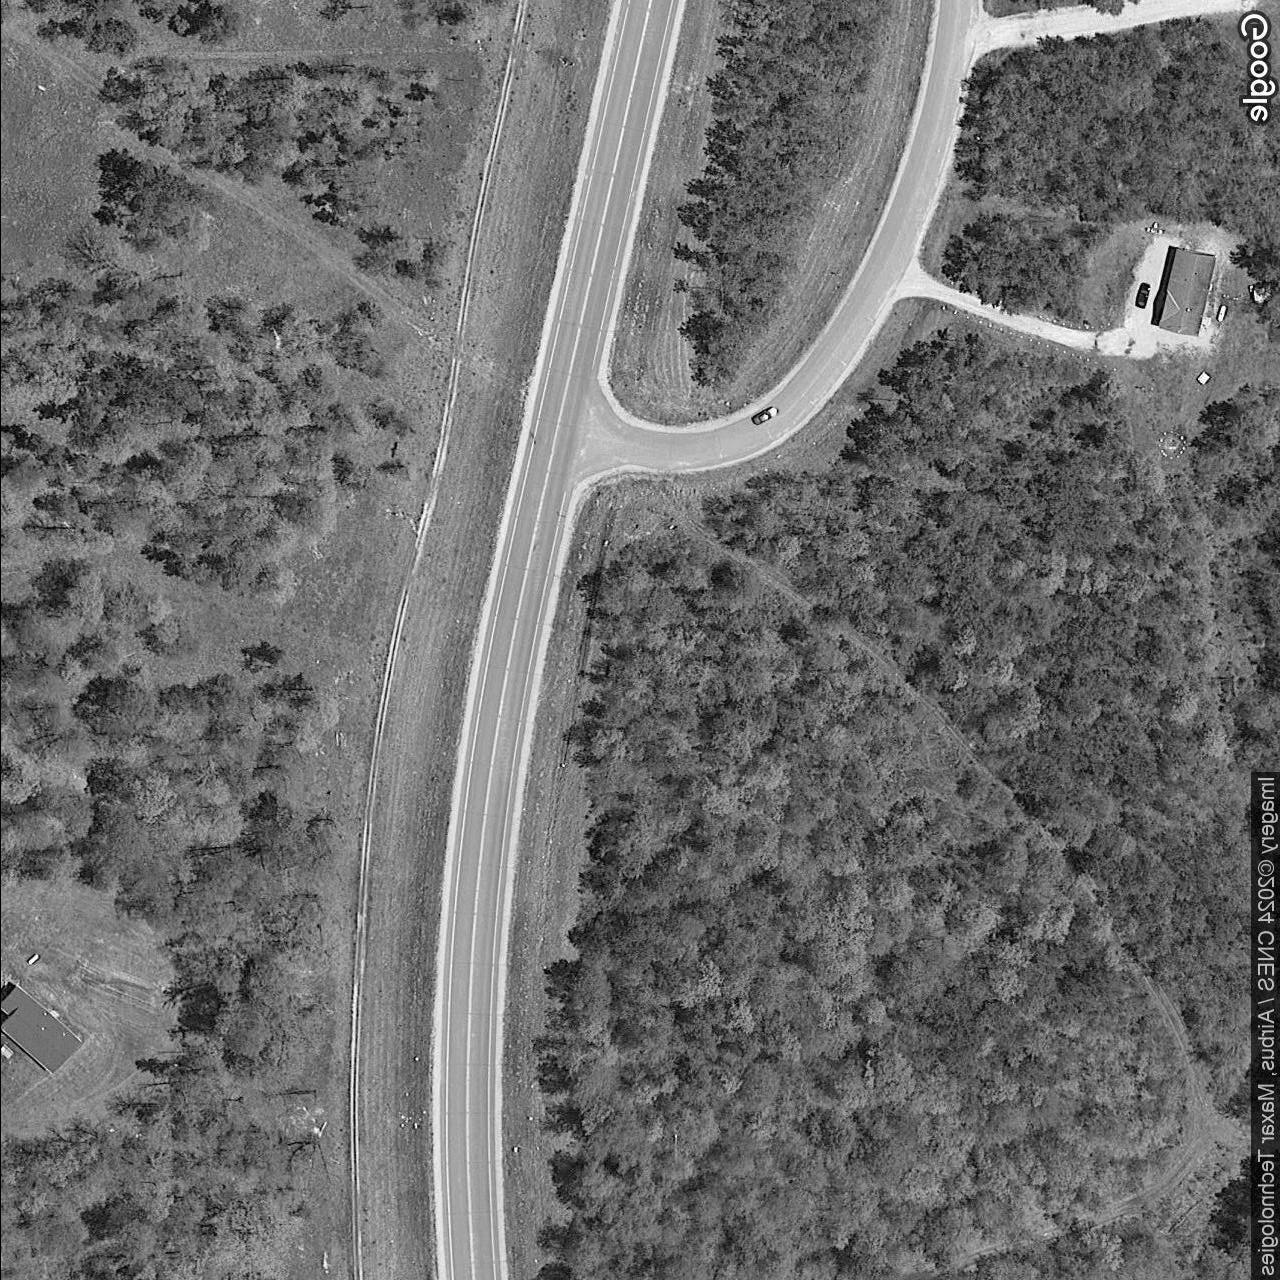House: (0, 983, 82, 1077), (1156, 247, 1218, 339)
Propane: (1212, 304, 1228, 324), (23, 952, 41, 968)
